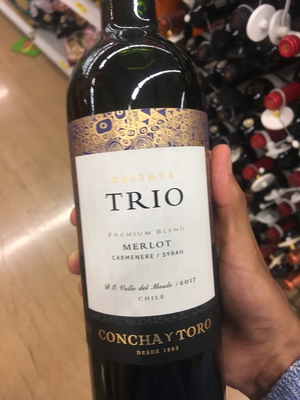trio merlot: (64, 9, 249, 400)
